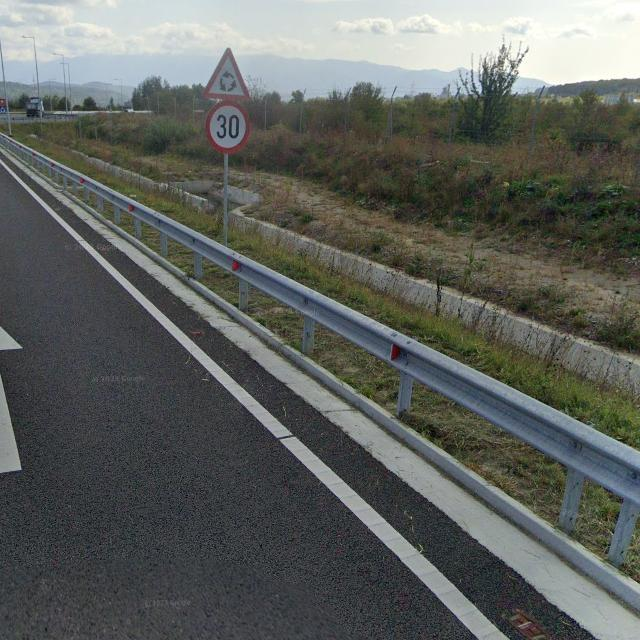forb_speed_over_30: (206, 102, 251, 153)
prio_give_way: (0, 99, 6, 108)
